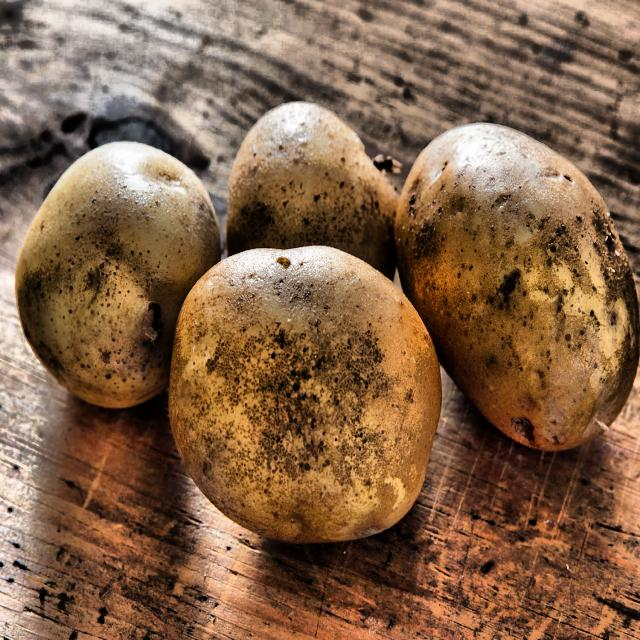potato: (12, 46, 625, 594)
